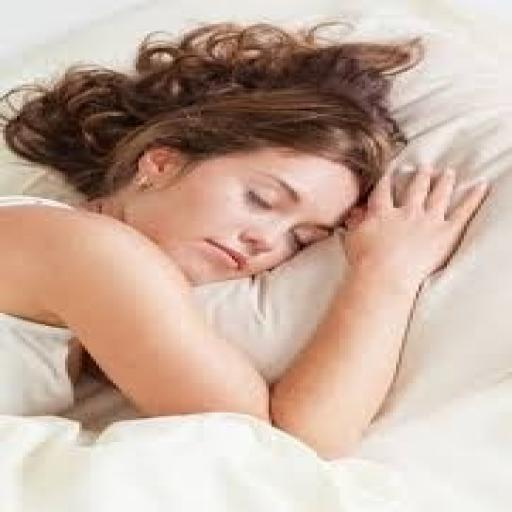sleeping: (0, 18, 495, 460)
